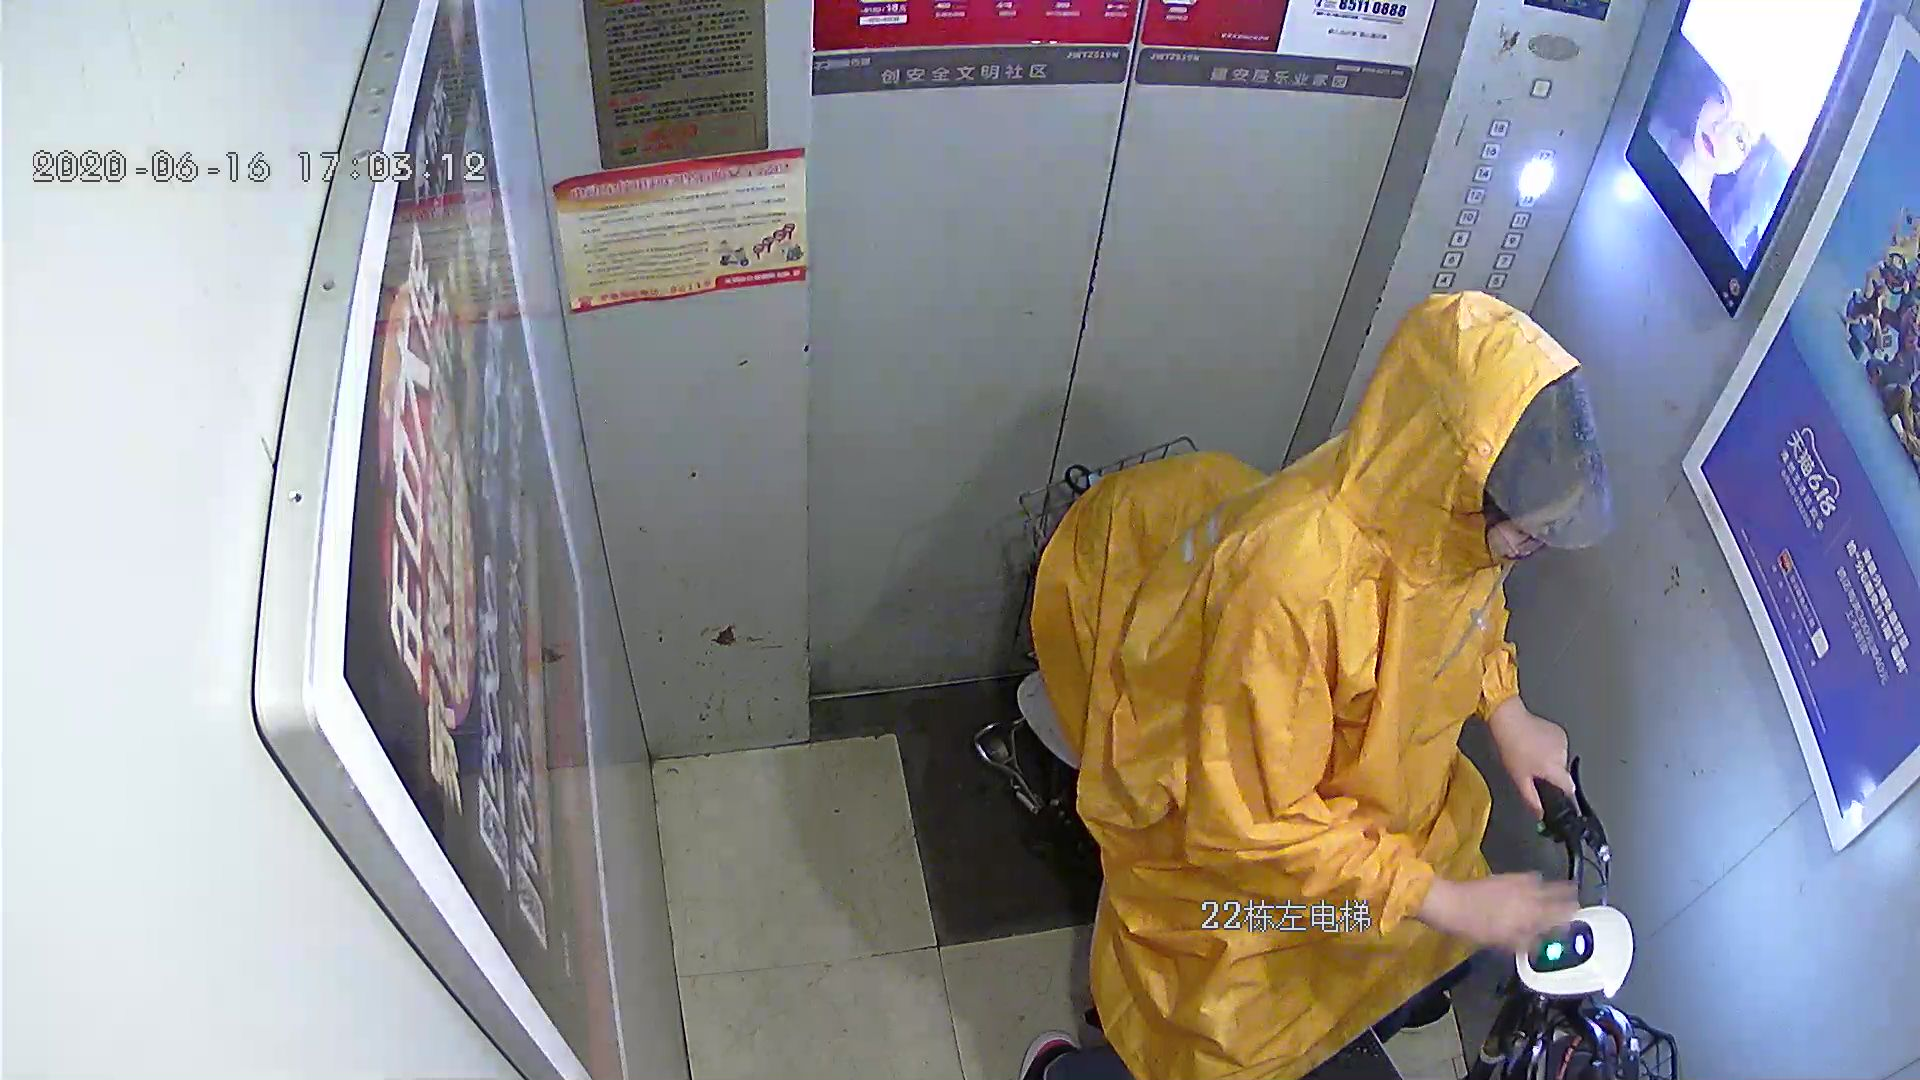Electric-bicycle: (1007, 442, 1673, 1079)
